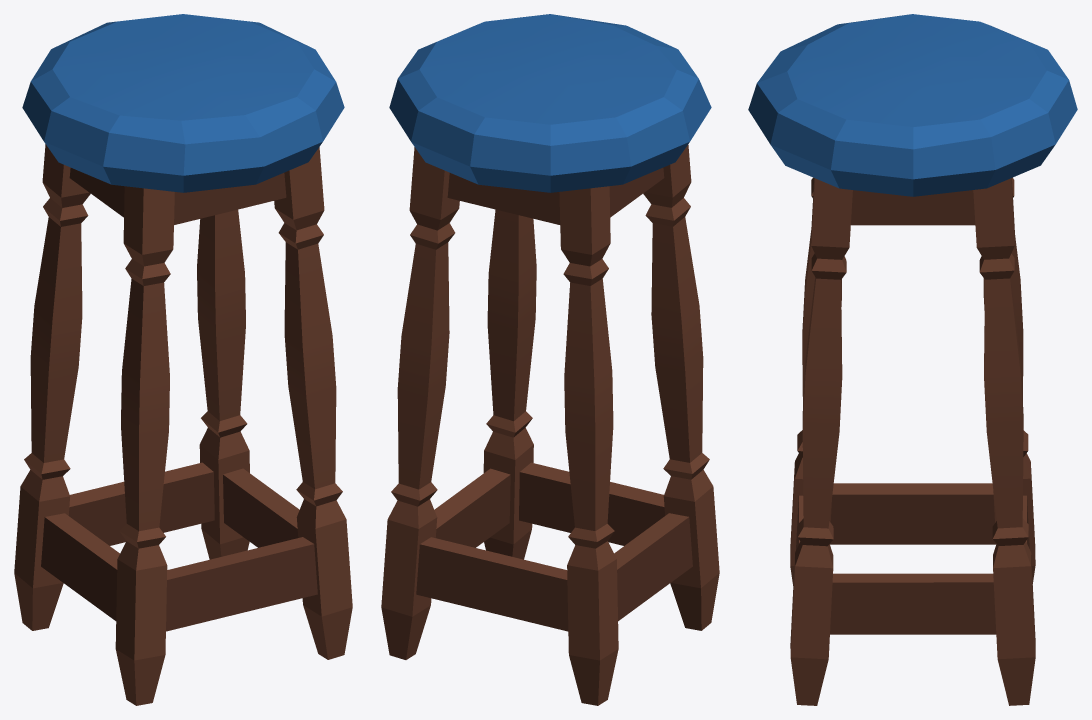
Rendered from SM_Prop_Bar_Stool_02.obj.
3 views of the same model, side by side, from view 1: azimuth 30°, elevation 25°; view 2: azimuth 150°, elevation 25°; view 3: azimuth 270°, elevation 25° (orthographic). The views are drawn at different scales.
Visible parts, largest first — view 1: SM_Prop_Bar_Stool_02_0; view 2: SM_Prop_Bar_Stool_02_0; view 3: SM_Prop_Bar_Stool_02_0.
Part boxes in pixels (left/top/right/bottom): SM_Prop_Bar_Stool_02_0: left=14, top=14, right=352, bottom=705; SM_Prop_Bar_Stool_02_0: left=381, top=14, right=719, bottom=705; SM_Prop_Bar_Stool_02_0: left=748, top=14, right=1077, bottom=705.
Size of the model in its own units: 0.3771 by 0.7441 by 0.3771.
1 material, 1 textured.
